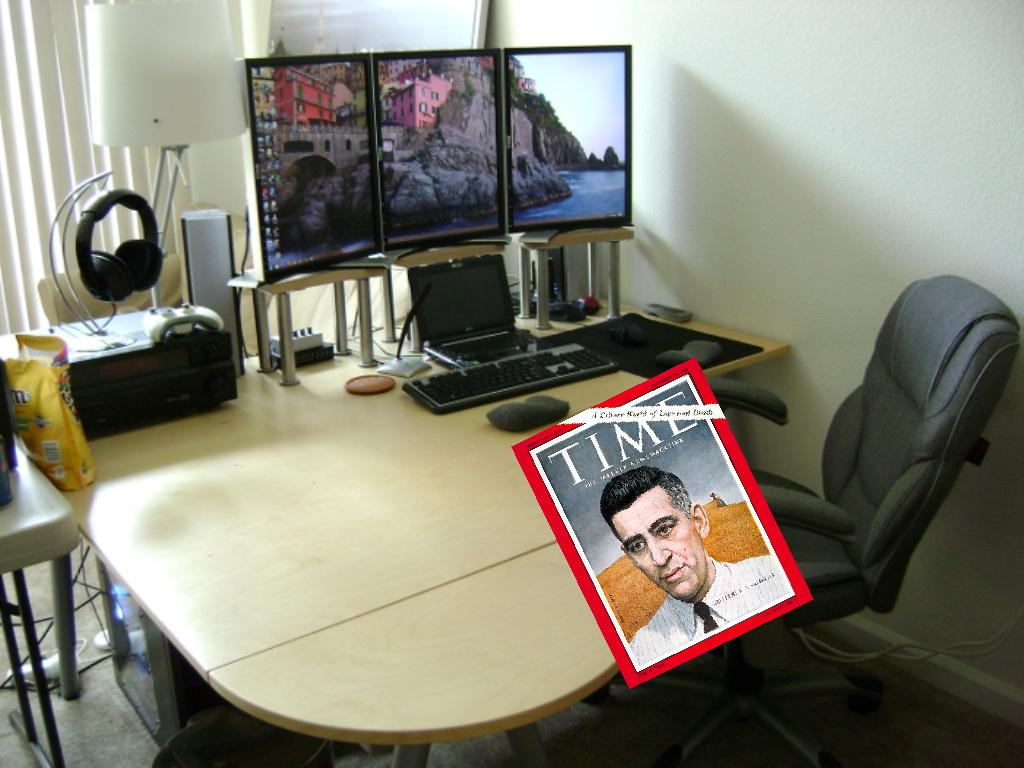times: (509, 351, 813, 691)
